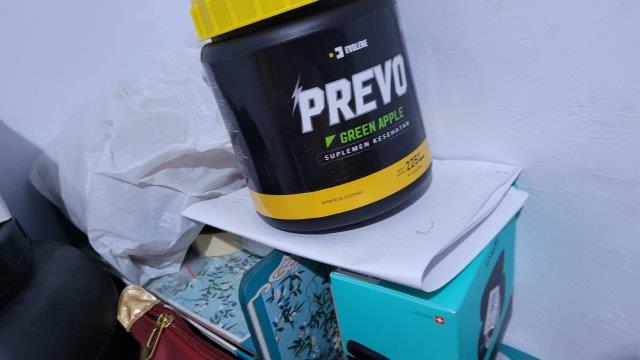kertas: (180, 159, 529, 296)
